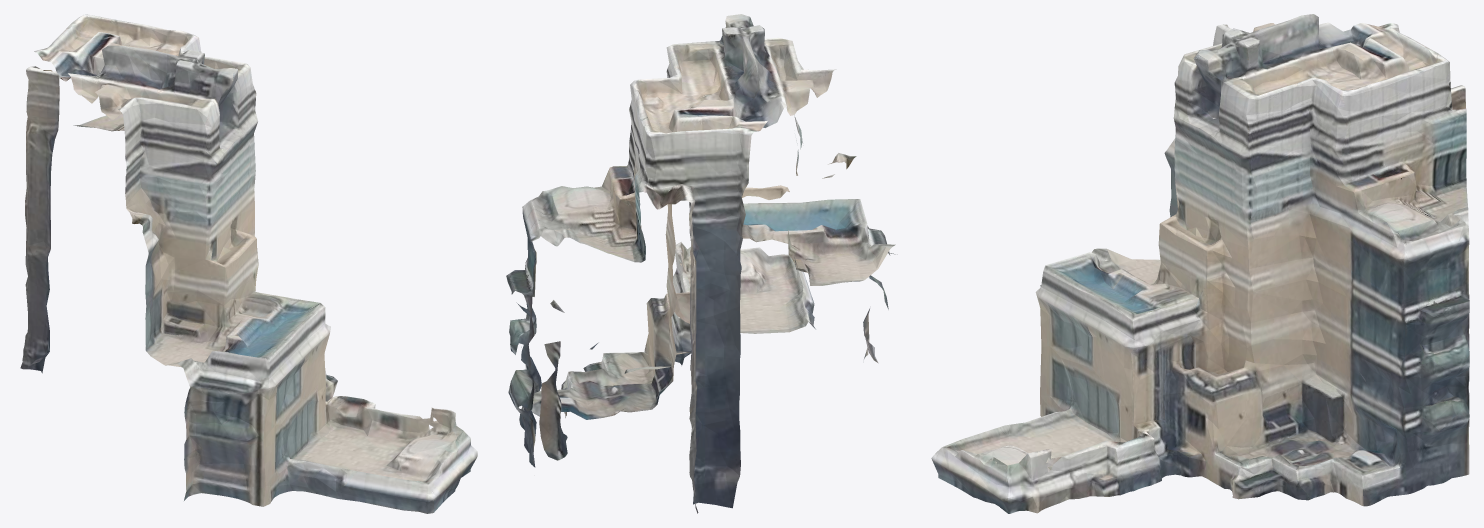
Rendered from Tile_+012_+008_L20_000003410.glb.
The picture shows the model from 3 angles, left to right: view 1: azimuth 30°, elevation 25°; view 2: azimuth 150°, elevation 25°; view 3: azimuth 270°, elevation 25°; orthographic projection. The views are drawn at different scales.
Parts seen in each view (by area): view 1: rtc; view 2: rtc; view 3: rtc.
Boxes of the visible parts, x1,y1,x2,y2 form: rtc: (20,14,477,513); rtc: (506,14,897,513); rtc: (931,14,1469,513).
Bounding box in the file's own units: 18.55 × 25.62 × 31.91.
Materials: 1 (1 with a texture image).
